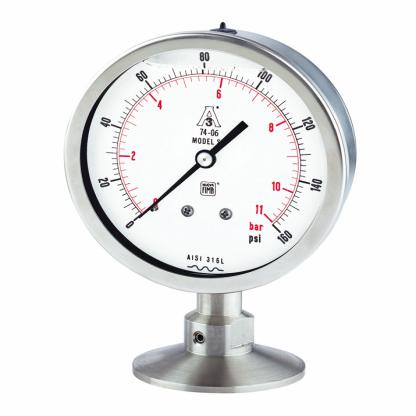needle: (138, 163, 201, 219)
